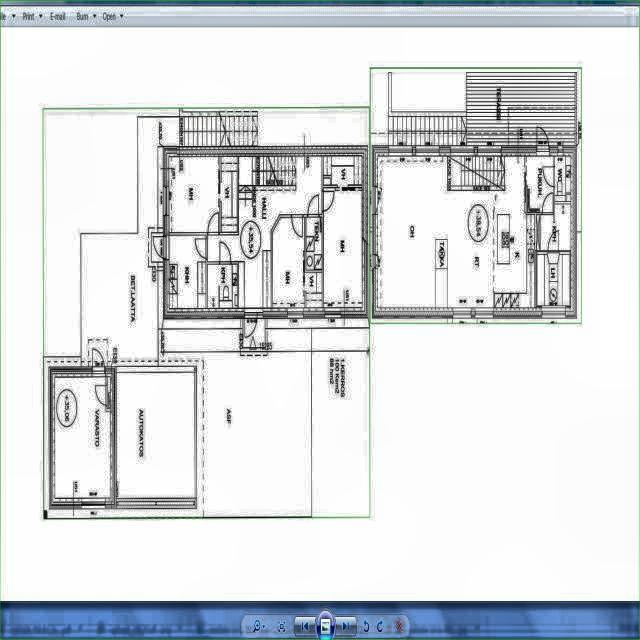room: (116, 371, 195, 498), (54, 377, 111, 499), (323, 191, 362, 308), (169, 157, 219, 232), (273, 217, 305, 307), (169, 235, 206, 309), (537, 255, 570, 306), (536, 204, 571, 250), (526, 156, 553, 212), (207, 264, 238, 308), (306, 217, 322, 270), (555, 157, 571, 202), (242, 319, 266, 348)
